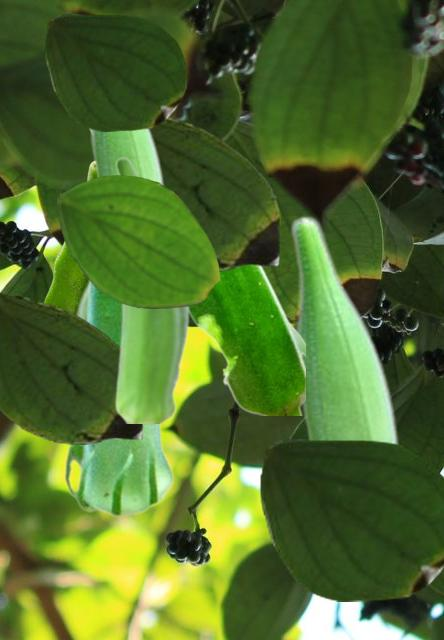okra: (86, 128, 304, 414), (63, 279, 174, 517), (289, 215, 402, 443), (114, 156, 189, 422), (43, 161, 95, 312), (87, 129, 166, 186), (72, 278, 87, 318)
